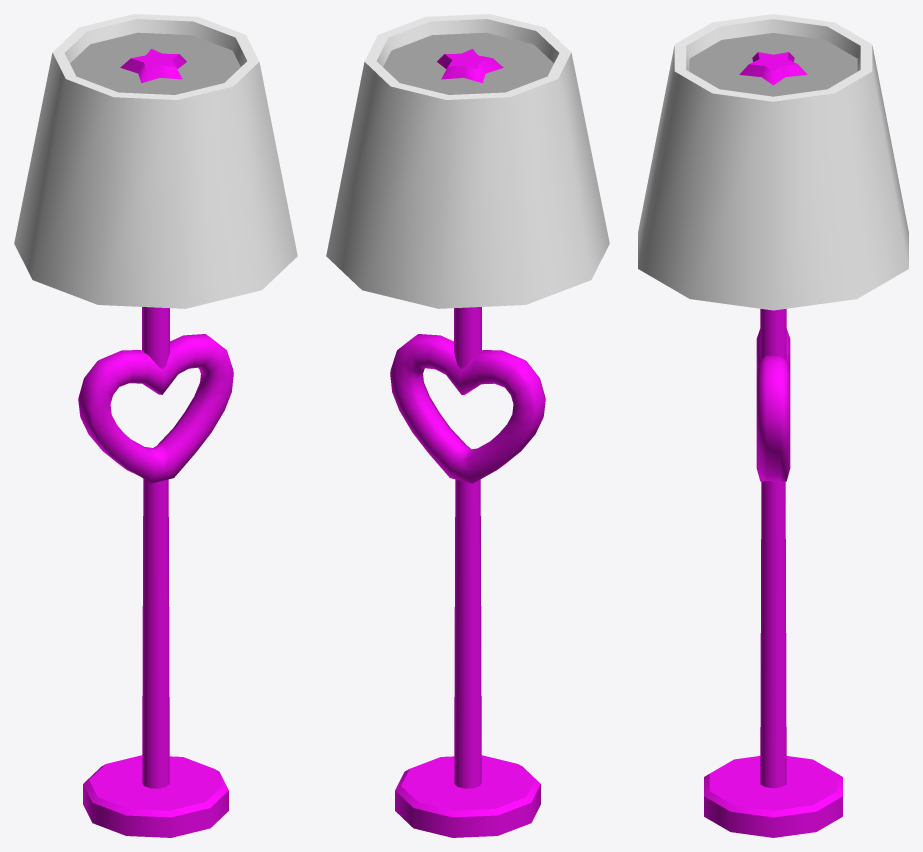
The model's file is HeartLamp.fbx.
The picture shows the model from 3 angles, left to right: view 1: azimuth 30°, elevation 25°; view 2: azimuth 150°, elevation 25°; view 3: azimuth 270°, elevation 25°; orthographic projection.
Visible parts, largest first — view 1: HeartLamp; view 2: HeartLamp; view 3: HeartLamp.
Part boxes in pixels (x1,y1,x2,y2): HeartLamp: [14, 14, 297, 837]; HeartLamp: [326, 14, 609, 837]; HeartLamp: [638, 14, 908, 837].
Size of the model in its own units: 2 by 5.81 by 1.9.
